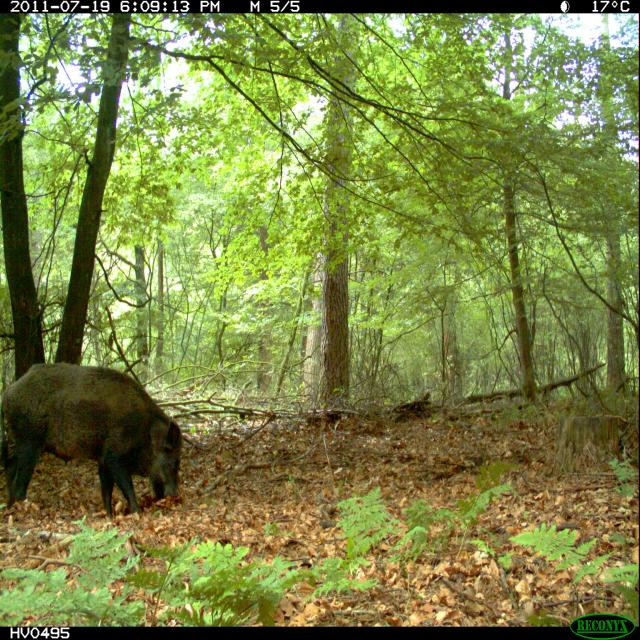boar: (0, 341, 219, 530)
